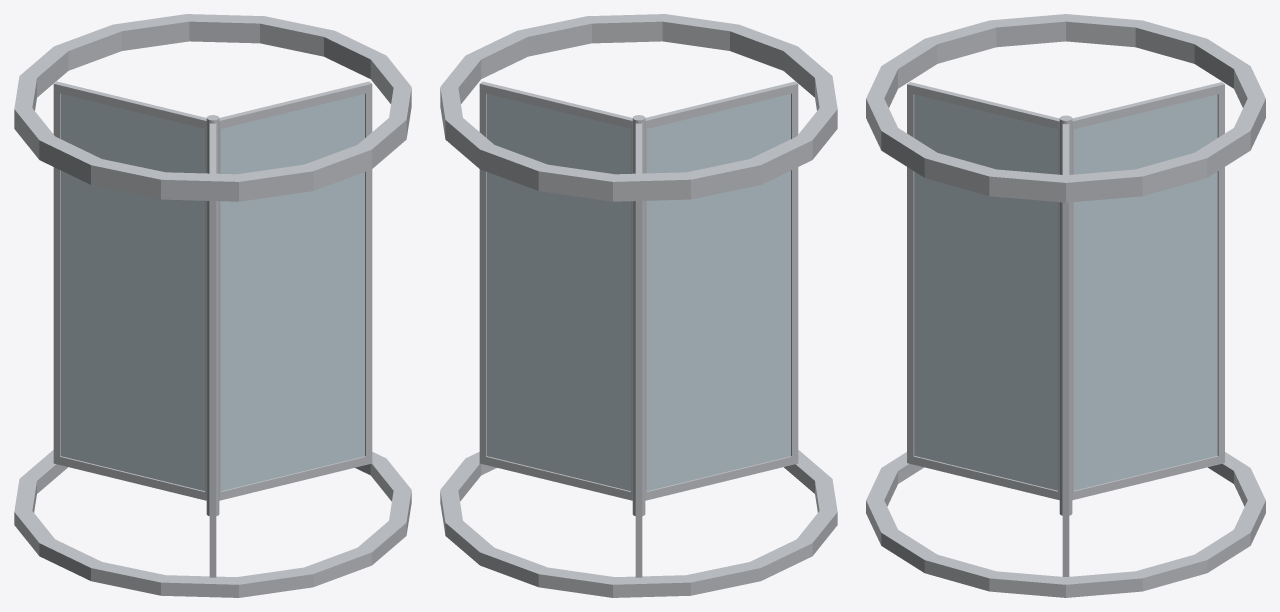
Rendered from bank-vault-heist-kit-revolving-door-45160b06__25100.glb.
3 renders of one model, left to right at view 1: azimuth 30°, elevation 25°; view 2: azimuth 150°, elevation 25°; view 3: azimuth 270°, elevation 25°, orthographic.
Visible parts, largest first — view 1: revolving-door (×3); view 2: revolving-door (×3); view 3: revolving-door (×3).
Part boxes in pixels (left/top/right/bottom): revolving-door (×3): left=14, top=14, right=411, bottom=597; revolving-door (×3): left=440, top=14, right=837, bottom=597; revolving-door (×3): left=866, top=14, right=1265, bottom=597.
Size of the model in its own units: 2.2 by 2.52 by 2.2.
